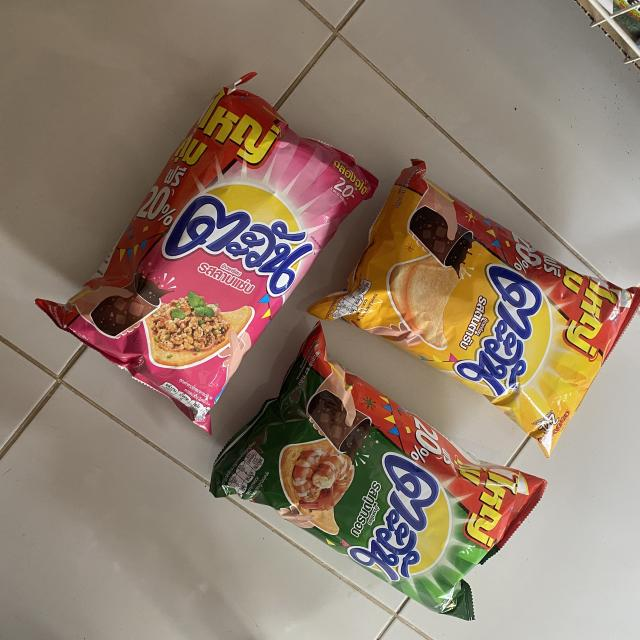plastik: (36, 72, 378, 432), (210, 322, 546, 620), (308, 160, 640, 456)
